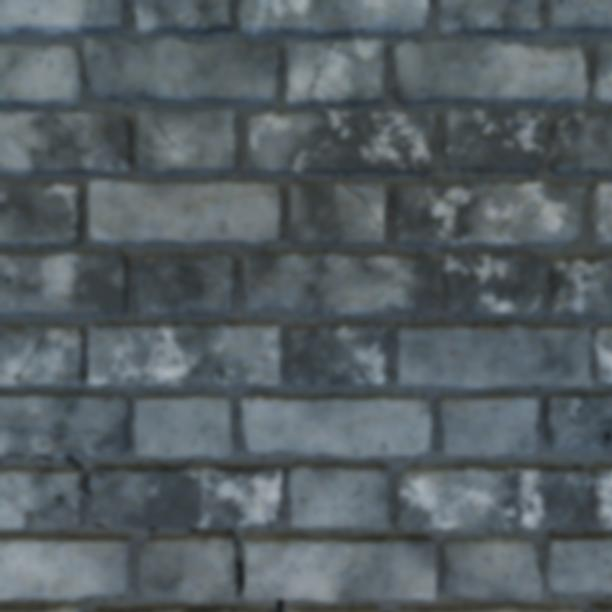brick: (243, 535, 435, 602), (84, 38, 279, 103), (395, 38, 587, 103), (396, 466, 590, 530), (245, 109, 434, 174), (397, 324, 591, 387), (392, 182, 583, 245), (89, 180, 279, 243), (90, 466, 281, 528), (88, 324, 281, 385), (244, 253, 433, 313), (242, 396, 431, 456), (0, 535, 131, 599), (0, 393, 129, 457), (0, 112, 131, 173), (0, 253, 127, 313), (139, 534, 238, 602), (239, 0, 427, 35), (441, 537, 540, 601), (286, 39, 383, 104), (443, 109, 543, 172), (290, 464, 387, 528), (138, 109, 236, 172), (134, 395, 233, 457), (438, 395, 537, 455), (444, 253, 544, 312), (135, 255, 235, 314), (290, 325, 386, 385), (290, 185, 383, 242), (0, 469, 83, 530), (0, 184, 81, 244), (0, 46, 81, 103), (549, 110, 611, 174), (0, 0, 123, 32), (545, 533, 611, 592), (22, 325, 85, 385), (546, 395, 611, 452), (439, 0, 540, 35), (550, 256, 611, 313), (135, 0, 230, 33), (547, 0, 611, 32), (0, 326, 42, 373), (348, 185, 385, 225), (398, 604, 579, 611), (591, 465, 611, 528), (591, 42, 611, 102), (592, 183, 611, 244), (593, 328, 611, 381), (94, 606, 274, 611), (0, 605, 80, 611), (288, 608, 378, 611), (0, 374, 16, 384), (591, 605, 611, 611), (573, 0, 578, 4)
crack: (186, 526, 248, 602), (310, 41, 369, 90), (0, 326, 46, 386), (342, 184, 382, 228), (559, 0, 609, 26), (63, 453, 92, 497), (321, 184, 335, 210), (195, 3, 228, 11), (511, 7, 538, 14), (0, 272, 14, 285), (270, 470, 280, 488), (353, 182, 379, 188), (92, 520, 109, 528), (275, 598, 284, 611), (35, 453, 54, 459), (2, 452, 23, 456), (146, 526, 158, 531), (262, 588, 267, 597), (86, 0, 92, 3)
